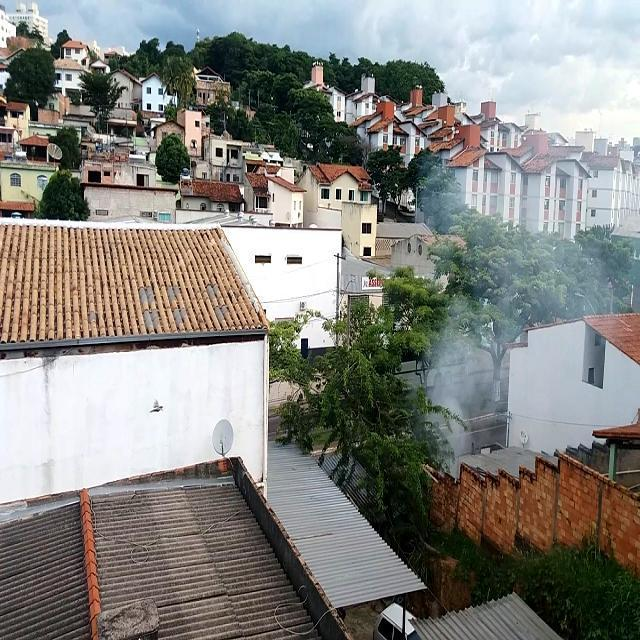Smoke: (420, 140, 578, 404)
